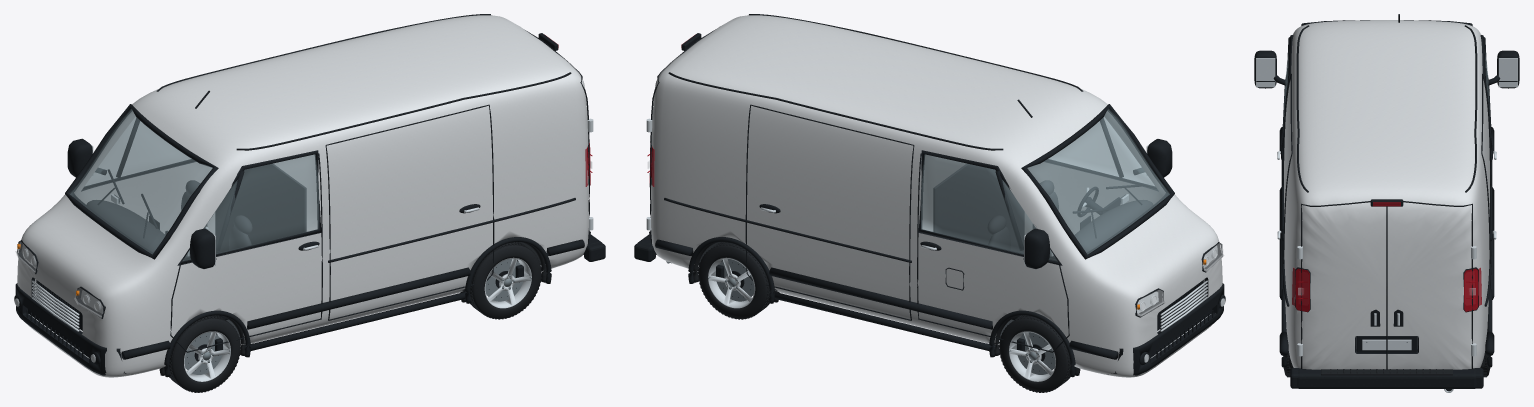
Rendered from delivery-van.glb.
The picture shows the model from 3 angles, left to right: view 1: azimuth 30°, elevation 25°; view 2: azimuth 150°, elevation 25°; view 3: azimuth 270°, elevation 25°; orthographic projection.
Parts seen in each view (by area): view 1: Van continuous hollow 12-station steel shell, Van raked panoramic windscreen curved laminated transparent , Front door window curved transparent pane -1, Cargo cabin partition, Front door window curved transparent pane 1, Van raked panoramic windscreen recessed rubber gasket, 107 reused Sculpted_tyre.002, 107 reused Sculpted_tyre, Wide moulded front bumper fascia, Textured protective lower side rubbing strip.001, Rocker moulding, Sculpted dashboard (+14 smaller); view 2: Van continuous hollow 12-station steel shell, Van raked panoramic windscreen curved laminated transparent , Front door window curved transparent pane 1, Cargo cabin partition, Front door window curved transparent pane -1, Van raked panoramic windscreen recessed rubber gasket, 107 reused Sculpted_tyre.001, 107 reused Sculpted_tyre.003, Wide moulded front bumper fascia, Textured protective lower side rubbing strip.004, Rocker moulding.001, Sculpted dashboard (+14 smaller); view 3: Van continuous hollow 12-station steel shell, Broad contoured rear step bumper main manufactured bar, Vertical corner wrap tail lamp continuous formed optical len (×2), Broad contoured rear step bumper step tread insert, Blank light registration plate, Satin mirror reflective inset, Satin mirror reflective inset.001, Sliding cargo door perimeter.001, Sliding cargo door perimeter, License plate inset shadow, High roof rain gutter, High roof rain gutter.001 (+14 smaller).
Boxes of the visible parts, x1,y1,x2,y2 form: Van continuous hollow 12-station steel shell: [17, 15, 588, 377]; Van raked panoramic windscreen curved laminated transparent : [69, 109, 212, 254]; Front door window curved transparent pane -1: [182, 154, 319, 261]; Cargo cabin partition: [215, 163, 306, 252]; Front door window curved transparent pane 1: [85, 117, 190, 186]; Van raked panoramic windscreen recessed rubber gasket: [65, 104, 218, 259]; 107 reused Sculpted_tyre.002: [469, 242, 541, 318]; 107 reused Sculpted_tyre: [168, 315, 240, 392]; Wide moulded front bumper fascia: [15, 283, 132, 375]; Textured protective lower side rubbing strip.001: [247, 267, 470, 329]; Rocker moulding: [244, 292, 465, 351]; Sculpted dashboard: [86, 200, 183, 260]; Van continuous hollow 12-station steel shell: [651, 15, 1222, 377]; Van raked panoramic windscreen curved laminated transparent : [1027, 108, 1170, 254]; Front door window curved transparent pane 1: [920, 154, 1057, 261]; Cargo cabin partition: [933, 163, 1024, 253]; Front door window curved transparent pane -1: [1049, 117, 1154, 186]; Van raked panoramic windscreen recessed rubber gasket: [1021, 104, 1174, 259]; 107 reused Sculpted_tyre.001: [999, 315, 1071, 392]; 107 reused Sculpted_tyre.003: [698, 242, 770, 318]; Wide moulded front bumper fascia: [1107, 283, 1224, 375]; Textured protective lower side rubbing strip.004: [769, 267, 992, 329]; Rocker moulding.001: [774, 292, 995, 351]; Sculpted dashboard: [1056, 200, 1153, 260]; Van continuous hollow 12-station steel shell: [1284, 20, 1489, 369]; Broad contoured rear step bumper main manufactured bar: [1297, 369, 1476, 388]; Vertical corner wrap tail lamp continuous formed optical len (×2): [1295, 268, 1478, 311]; Broad contoured rear step bumper step tread insert: [1321, 369, 1452, 375]; Blank light registration plate: [1362, 339, 1411, 350]; Satin mirror reflective inset: [1256, 58, 1275, 87]; Satin mirror reflective inset.001: [1498, 58, 1517, 87]; Sliding cargo door perimeter.001: [1481, 73, 1491, 288]; Sliding cargo door perimeter: [1282, 73, 1292, 288]; License plate inset shadow: [1357, 336, 1416, 352]; High roof rain gutter: [1296, 25, 1309, 192]; High roof rain gutter.001: [1464, 25, 1477, 192].
Bounding box in the file's own units: 5.7 × 2.65 × 2.62.
11 materials, 11 textured.
